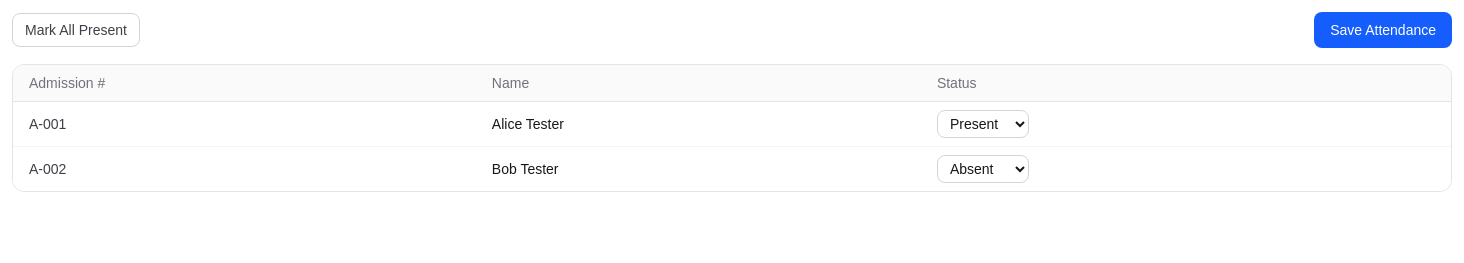
Test: BulkMarkAttendanceForm › submits the current per-student statuses and shows a success message
The image size is (1464, 263).
Click the button "Save Attendance": coordinates (1383, 30) left=1314, top=12, right=1452, bottom=48
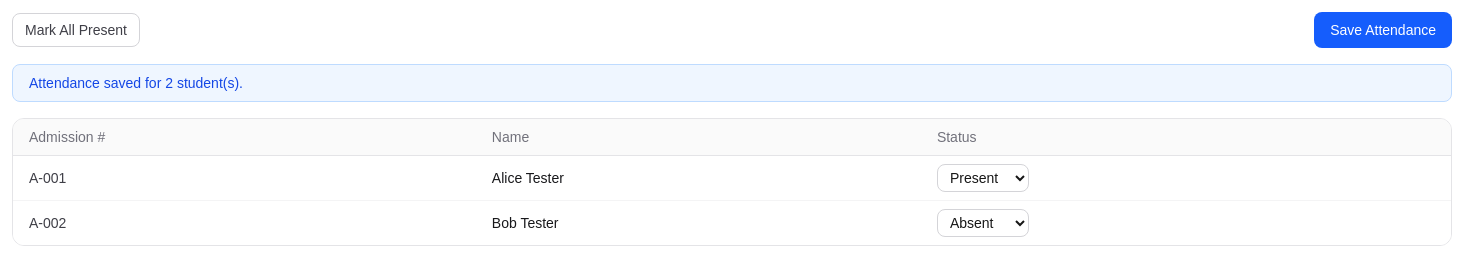
Expected: the text "Attendance saved for 2 student(s)." is shown, left=12, top=64, right=1452, bottom=102
